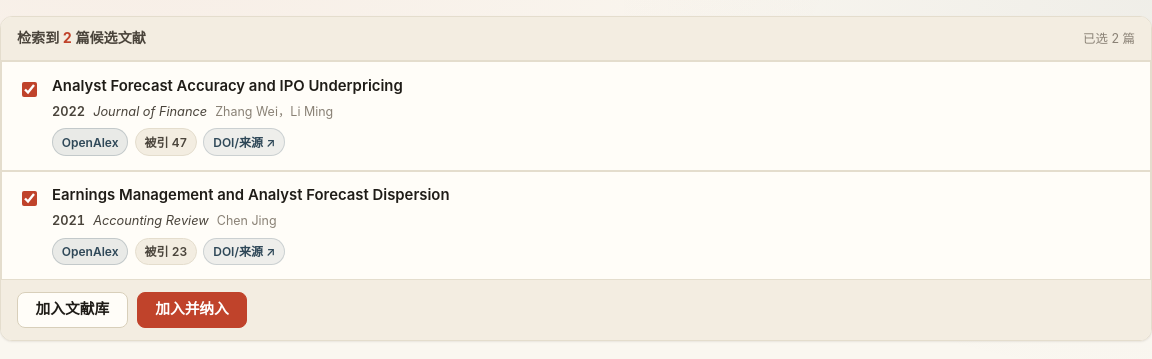
Test: SearchCandidateCards › 「加入库」按钮在无选中时禁用
What coordinates should you click on to do the following:
click the checkbox named "选择：Analyst Forecast Accuracy and IPO Underpricing"
I would click on:
 (30, 89)
Its box is [22,82,37,97].
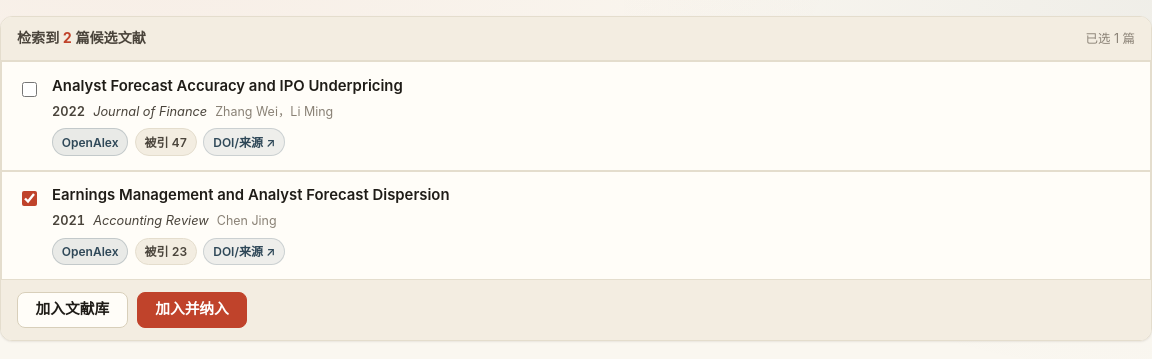
What coordinates should you click on to do the following:
click the checkbox named "选择：Earnings Management and Analyst Forecast Dispersion"
I would click on:
 (30, 198)
Its box is [22,191,37,206].
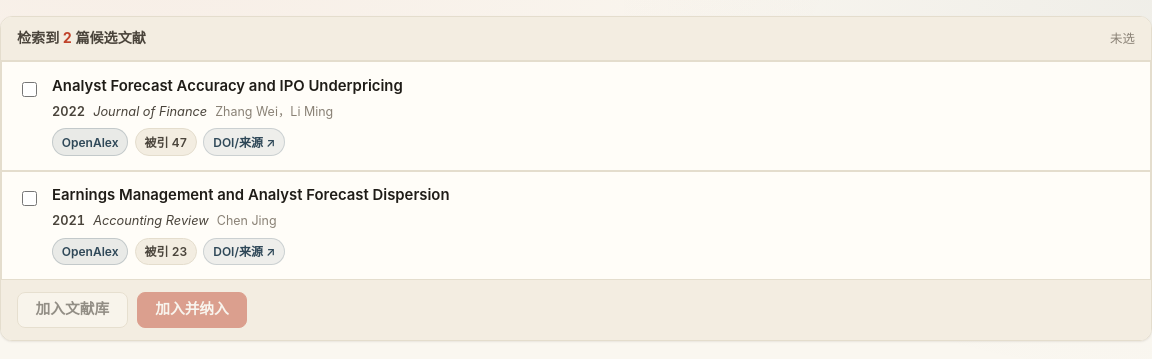
Now the button "加入文献库" is disabled, box [17,292,128,328]
Now the button "加入并纳入" is disabled, box [137,292,247,328]
